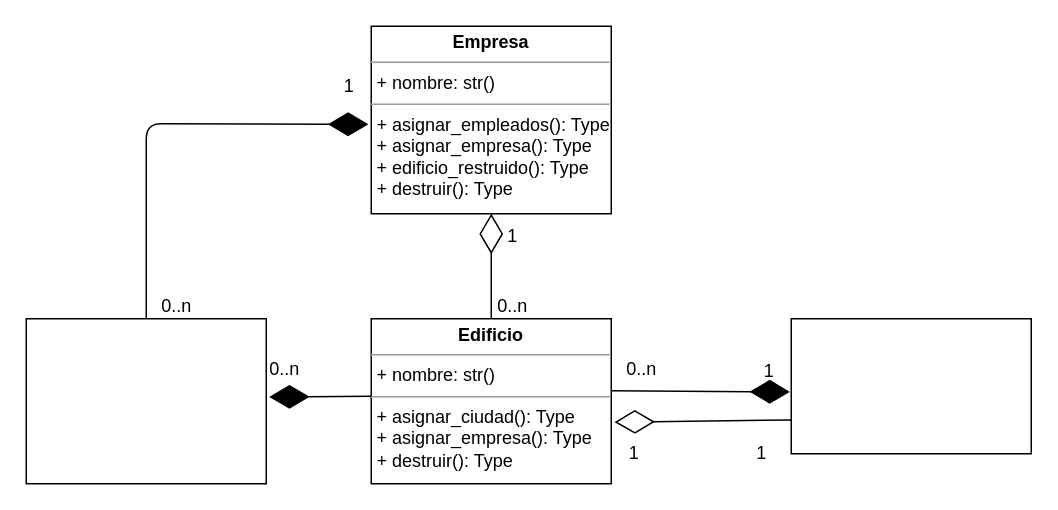
The diagram is 1058 pixels wide and 510 high, and some of its shapes have lost their labels. The centre of each missing label's shape, as x and y in pixels:
"Ciudad + nombre: str() + asignar_edificios(): Type + destruir(): Type" belongs at [910,385].
"Empleado + nombre: str() + asignar_empresa(): Type + destruir(): Type" belongs at [145,400].
